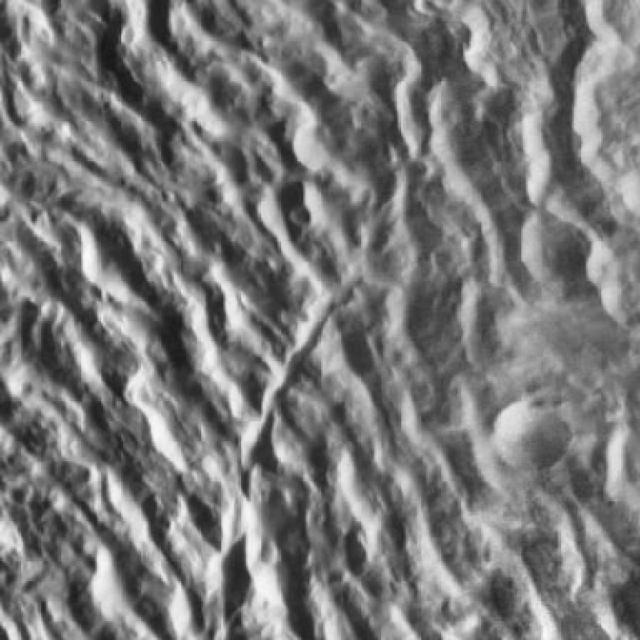crater: (489, 399, 569, 468)
